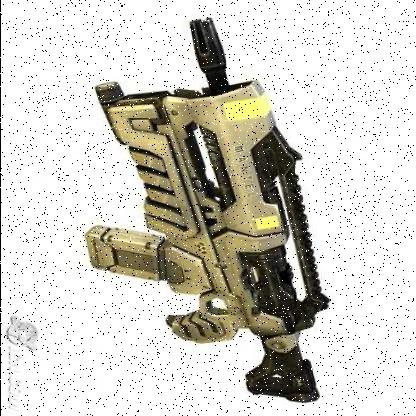rifle: (81, 12, 349, 410)
